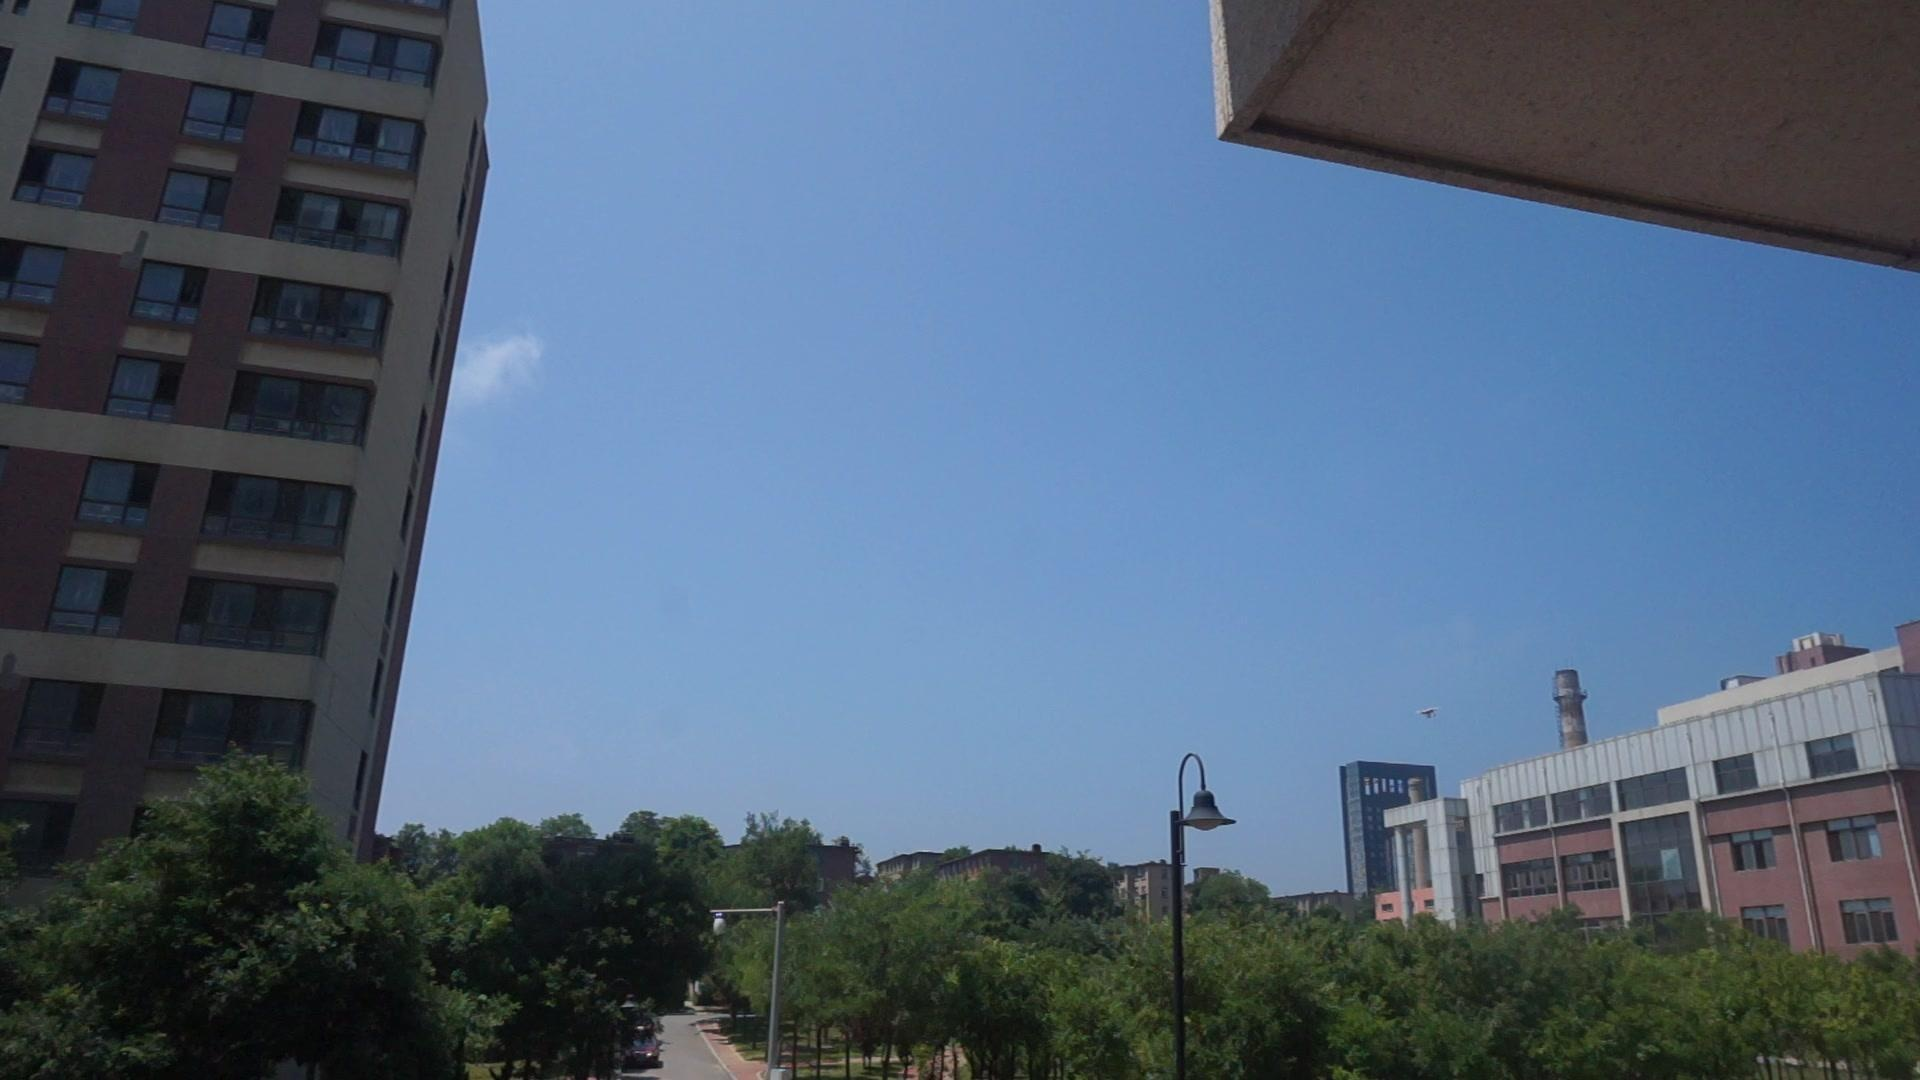UAV: (1416, 707, 1443, 721)
